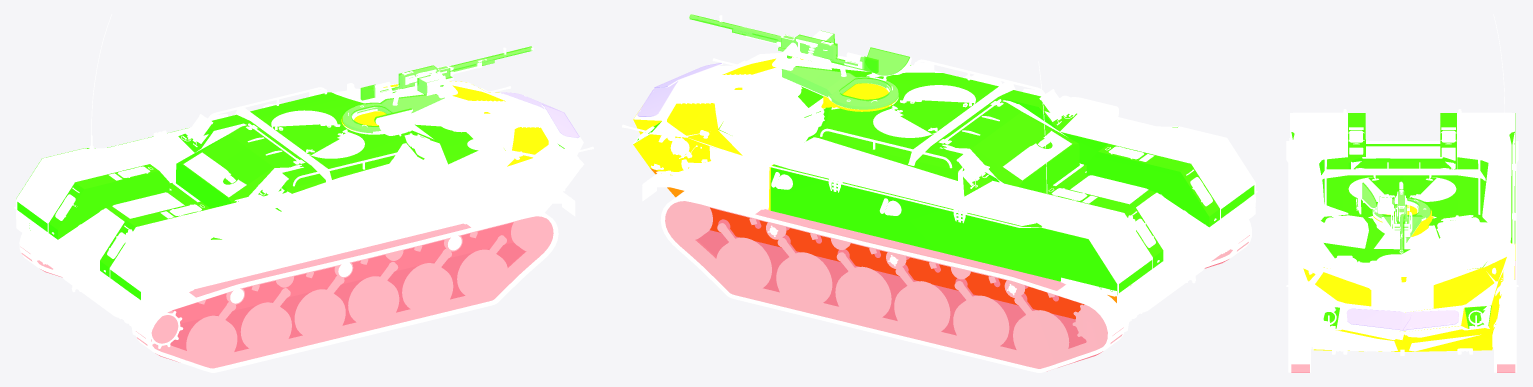
File: BTRD.gltf
3 views of the same model, side by side, from view 1: azimuth 30°, elevation 25°; view 2: azimuth 150°, elevation 25°; view 3: azimuth 270°, elevation 25° (orthographic). The views are drawn at different scales.
Visible parts, largest first — view 1: 38, BTRD_Tracks_Col_Right_55, BTRD_Col, 38_1, 38_3, BTRD_Col_1, 38_5.001, BTR-D_Kord_Turret_Col_35, Kord_Gun_Col_38, 38_2, bmd1m_col_watershield_R2_47; view 2: 38, BTRD_Col, BTRD_Tracks_Col_Left_52, 38_2, BTRD_Col_2, BTRD_Col_1, 38_3, BTR-D_Kord_Turret_Col_35, Kord_Gun_Col_38, 38_5.001, bmd1m_col_watershield_L2_44, 38_1; view 3: 38, BTRD_Col, BTRD_Col_1, 38_3, bmd1m_col_watershield_R2_47, 38_1, 38_2, BTR-D_Kord_Turret_Col_35, bmd1m_col_watershield_L2_44, 38_5.001, Kord_Gun_Col_38, 38_6.
Part boxes in pixels (x1,y1,x2,y2): 38: (14, 14, 584, 367); BTRD_Tracks_Col_Right_55: (137, 216, 553, 367); BTRD_Col: (16, 92, 564, 299); 38_1: (135, 207, 558, 372); 38_3: (343, 73, 457, 136); BTRD_Col_1: (341, 81, 548, 166); 38_5.001: (374, 46, 533, 105); BTR-D_Kord_Turret_Col_35: (341, 94, 444, 133); Kord_Gun_Col_38: (360, 46, 532, 100); 38_2: (19, 224, 61, 276); bmd1m_col_watershield_R2_47: (542, 104, 579, 137); 38: (632, 51, 1257, 367); BTRD_Col: (637, 65, 1254, 294); BTRD_Tracks_Col_Left_52: (665, 201, 1122, 368); 38_2: (660, 191, 1125, 372); BTRD_Col_2: (650, 168, 1130, 318); BTRD_Col_1: (633, 56, 895, 210); 38_3: (772, 43, 911, 109); BTR-D_Kord_Turret_Col_35: (782, 47, 909, 109); Kord_Gun_Col_38: (689, 14, 878, 73); 38_5.001: (689, 14, 864, 76); bmd1m_col_watershield_L2_44: (637, 81, 677, 116); 38_1: (1205, 209, 1251, 267); 38: (1286, 14, 1518, 355); BTRD_Col: (1291, 113, 1515, 328); BTRD_Col_1: (1303, 205, 1515, 351); 38_3: (1356, 184, 1429, 244); bmd1m_col_watershield_R2_47: (1346, 308, 1411, 330); 38_1: (1288, 163, 1310, 372); 38_2: (1494, 163, 1516, 372); BTR-D_Kord_Turret_Col_35: (1362, 182, 1430, 242); bmd1m_col_watershield_L2_44: (1403, 310, 1458, 330); 38_5.001: (1378, 181, 1406, 253); Kord_Gun_Col_38: (1379, 176, 1407, 253); 38_6: (1377, 197, 1409, 212).
Bounding box in the file's own units: 5.86 × 3.08 × 2.68.
